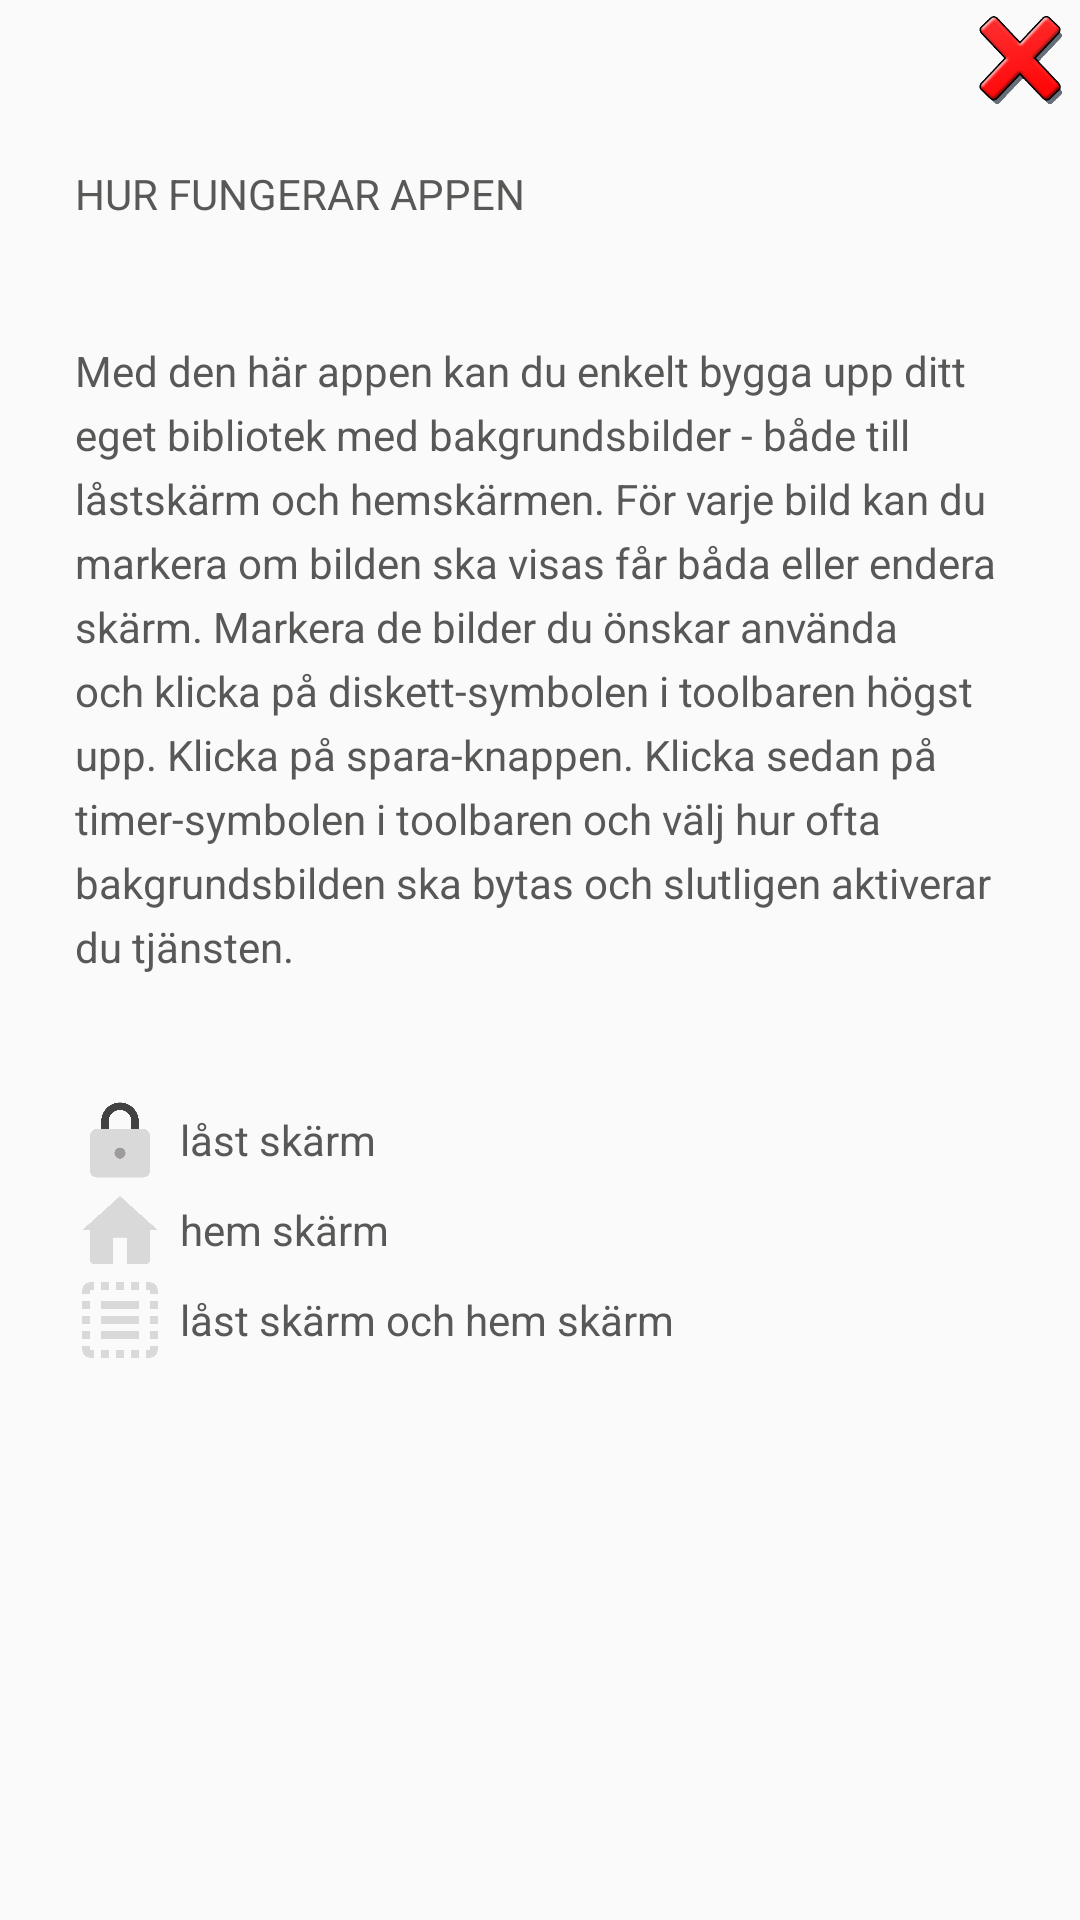

Icon bounding boxes for this 1080 x 1920 phone screenshot, format (x1, y1, x2, y2):
all: (82, 1282, 158, 1358)
cross: (979, 16, 1062, 104)
